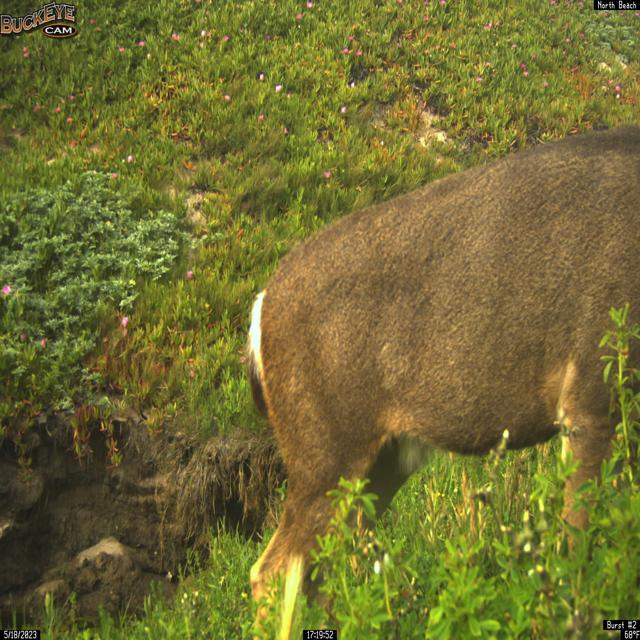deer: (244, 123, 640, 638)
